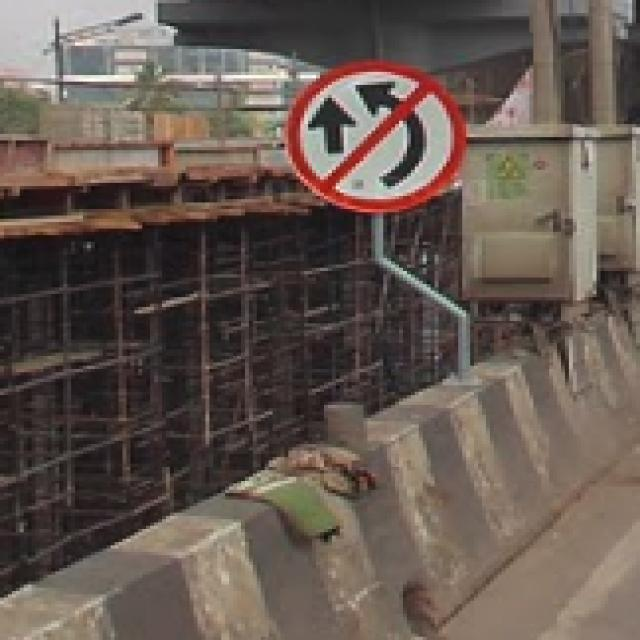overtaking prohibited: (283, 55, 475, 219)
